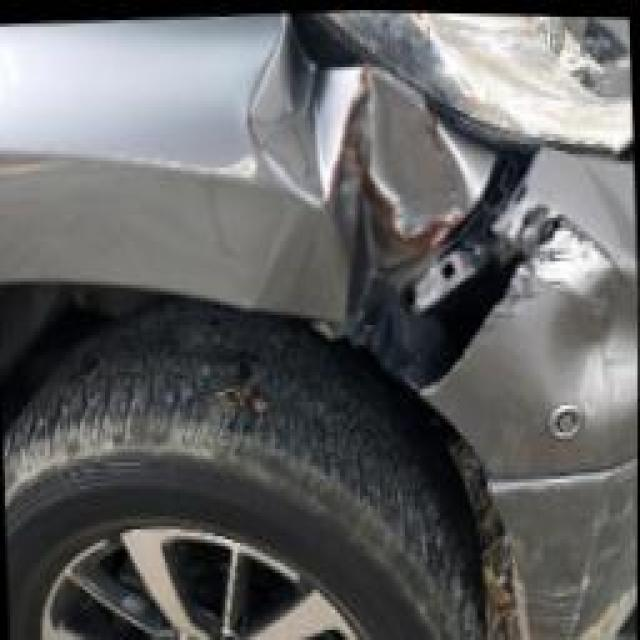Bumper: (448, 157, 640, 640)
Fender: (130, 10, 476, 310)
